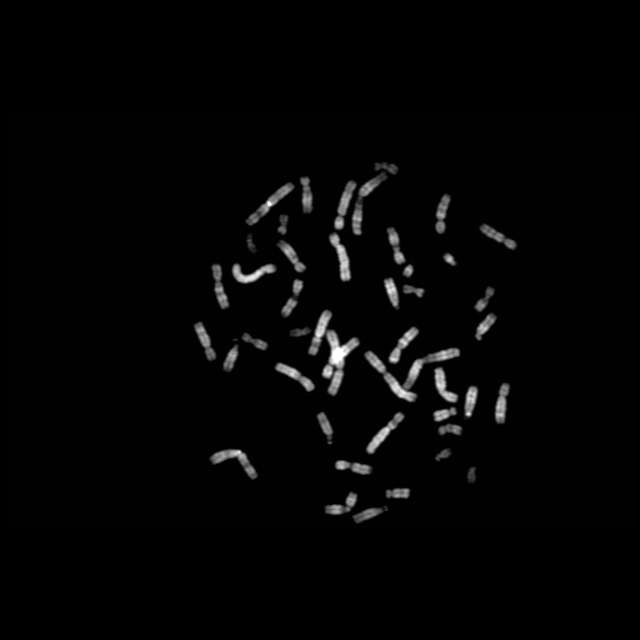chromosome: (366, 351, 416, 402), (404, 348, 460, 390), (353, 173, 387, 234), (246, 182, 294, 225), (210, 448, 258, 479), (324, 338, 361, 378), (368, 412, 404, 453), (326, 330, 344, 396), (276, 363, 314, 392), (334, 180, 356, 230), (390, 326, 420, 362), (310, 310, 332, 356), (330, 234, 350, 282), (278, 241, 306, 273), (480, 224, 516, 248), (194, 322, 216, 360), (434, 368, 458, 402), (282, 279, 302, 317), (233, 264, 275, 282), (213, 264, 229, 310), (326, 492, 356, 514), (495, 383, 509, 423), (436, 194, 450, 233), (476, 313, 496, 339), (336, 460, 372, 474), (474, 288, 494, 312), (353, 507, 382, 523), (318, 412, 332, 444), (384, 279, 398, 309), (302, 177, 313, 213), (224, 344, 238, 372), (242, 333, 266, 349), (466, 386, 478, 416), (434, 407, 456, 421), (376, 162, 398, 174), (439, 424, 461, 436), (404, 285, 424, 297), (386, 488, 409, 498), (394, 246, 406, 264), (278, 215, 288, 235), (290, 328, 310, 338), (436, 448, 452, 460), (388, 227, 398, 245), (468, 466, 477, 482), (445, 254, 457, 266), (248, 235, 256, 252), (403, 264, 412, 278)
